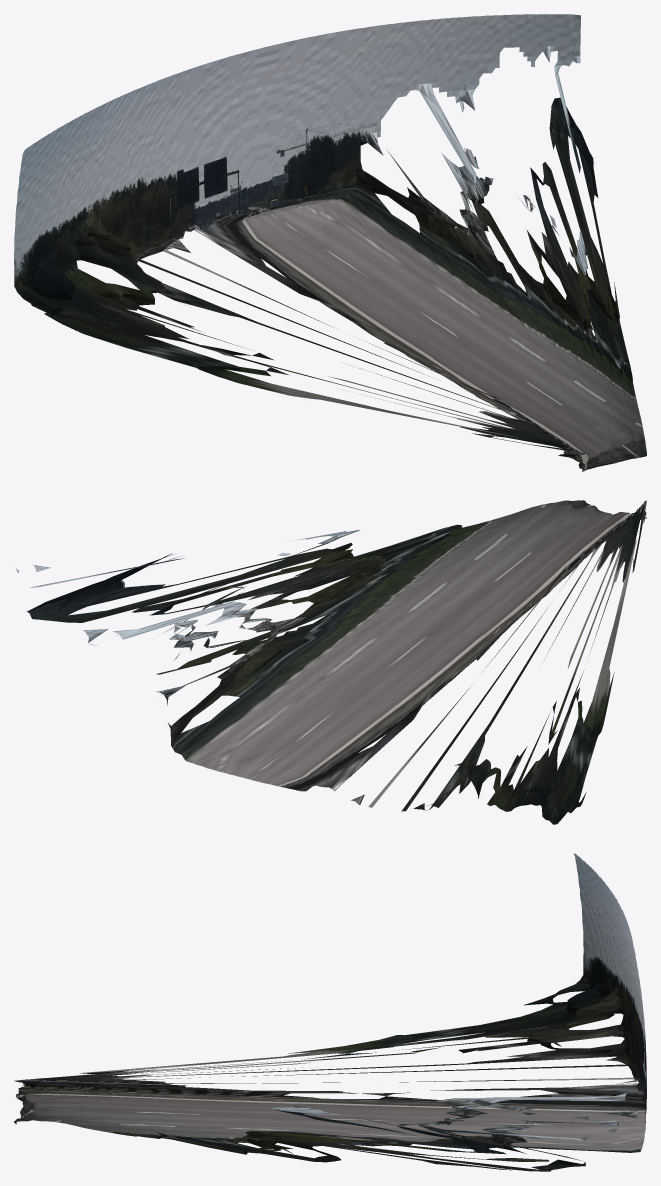
The picture shows the model from 3 angles, top to bottom: view 1: azimuth 30°, elevation 25°; view 2: azimuth 150°, elevation 25°; view 3: azimuth 270°, elevation 25°; orthographic projection. The views are drawn at different scales.
Parts seen in each view (by area): view 1: defaultobject; view 2: defaultobject; view 3: defaultobject.
Part boxes in pixels (x1=…): defaultobject: x1=14, y1=14, x2=646, y2=471; defaultobject: x1=15, y1=500, x2=646, y2=824; defaultobject: x1=14, y1=853, x2=646, y2=1171.
Bounding box in the file's own units: 41 × 12.71 × 44.66.
1 material, 1 textured.
